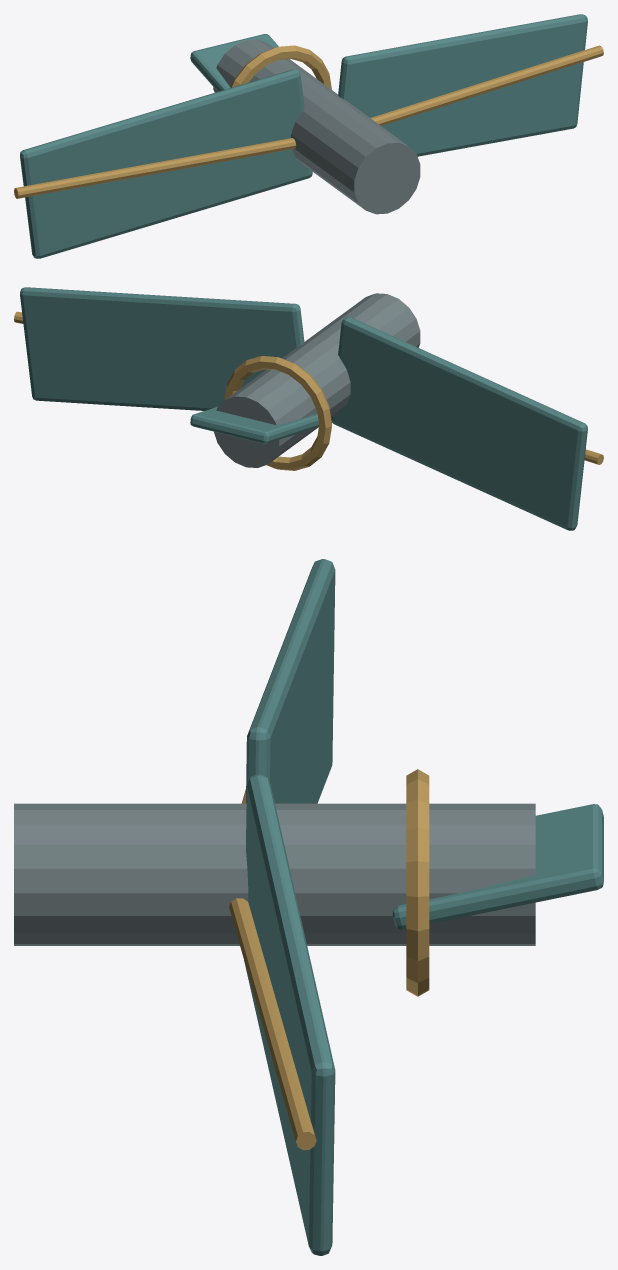
The model's file is unit-flyer.glb.
3 renders of one model, top to bottom at view 1: azimuth 30°, elevation 25°; view 2: azimuth 150°, elevation 25°; view 3: azimuth 270°, elevation 25°, orthographic. The views are drawn at different scales.
Parts seen in each view (by area): view 1: left articulated wing, right articulated wing, bird body, wing spar, wing spar.001, rotor cage, split tail; view 2: left articulated wing, right articulated wing, bird body, rotor cage, split tail; view 3: bird body, right articulated wing, left articulated wing, split tail, rotor cage, wing spar.001.
Boxes of the visible parts, x1,y1,x2,y2 form: left articulated wing: (20,69,312,258); right articulated wing: (338,14,587,156); bird body: (213,39,420,214); wing spar: (14,138,296,198); wing spar.001: (370,45,603,125); rotor cage: (230,45,331,89); split tail: (190,34,278,91); left articulated wing: (331,317,587,530); right articulated wing: (20,287,304,410); bird body: (214,293,420,467); rotor cage: (224,356,331,470); split tail: (190,406,318,443); bird body: (14,803,535,945); right articulated wing: (244,774,335,1255); left articulated wing: (246,559,335,803); split tail: (392,804,603,929); rotor cage: (406,769,429,996); wing spar.001: (229,898,316,1150).
Bounding box in the file's own units: 4.19 × 0.9736 × 1.98.
